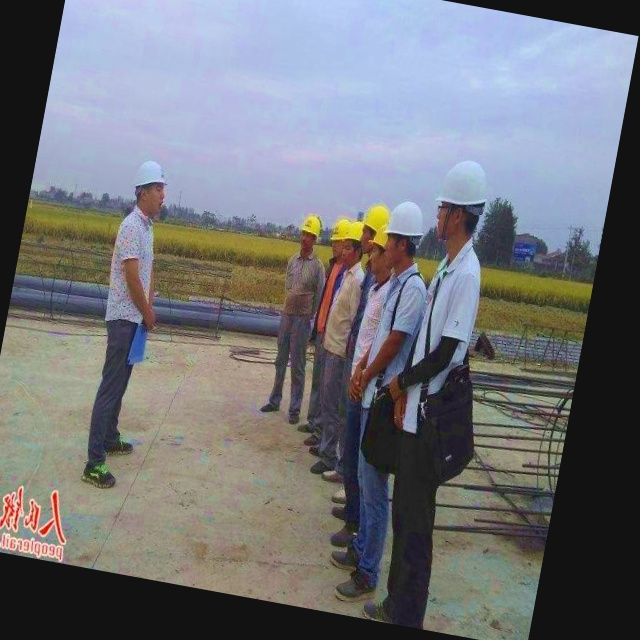Con_Casco: (427, 153, 495, 253)
Sin_Chaleco: (398, 244, 488, 445)
